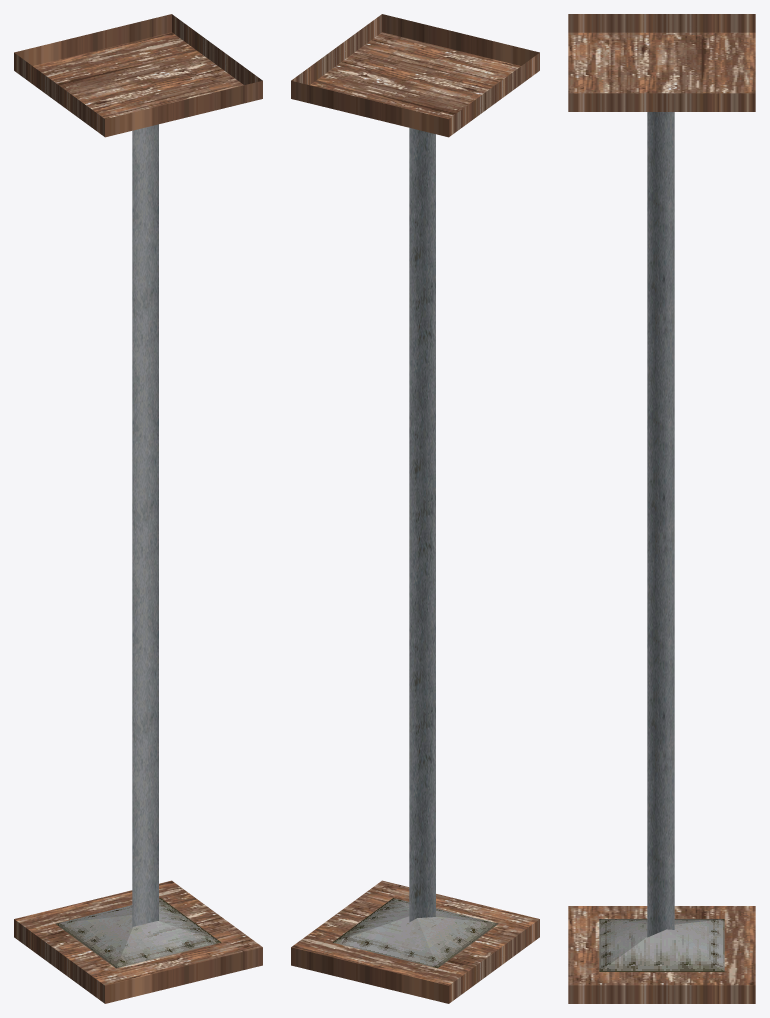
Rendered from vgsnscffple.obj.
The picture shows the model from 3 angles, left to right: view 1: azimuth 30°, elevation 25°; view 2: azimuth 150°, elevation 25°; view 3: azimuth 270°, elevation 25°; orthographic projection. The views are drawn at different scales.
Parts seen in each view (by area): view 1: vgsNscffple; view 2: vgsNscffple; view 3: vgsNscffple.
Boxes of the visible parts, x1=… form: vgsNscffple: x1=14, y1=14, x2=262, y2=1003; vgsNscffple: x1=291, y1=14, x2=539, y2=1003; vgsNscffple: x1=568, y1=14, x2=755, y2=1003.
Size of the model in its own units: 0.5 by 2.68 by 0.5.
3 materials, 3 textured.
